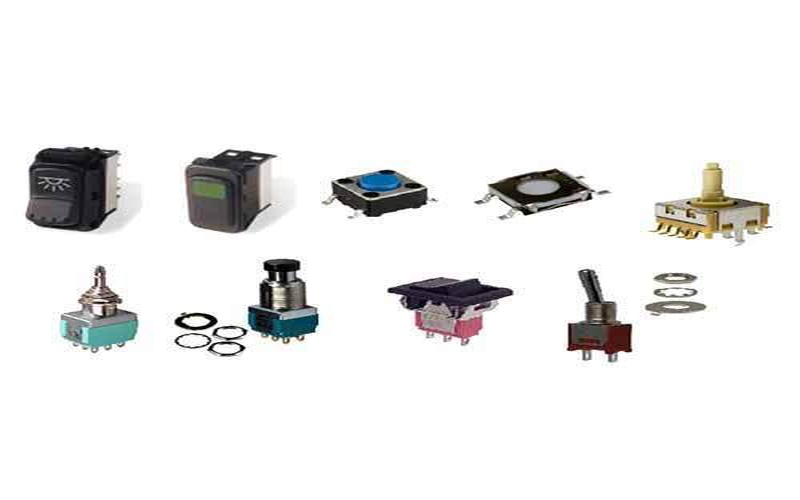Switches: (158, 250, 333, 379), (544, 254, 702, 378), (149, 125, 289, 249), (12, 109, 127, 244), (642, 139, 780, 248), (366, 263, 519, 356), (470, 139, 623, 230), (301, 132, 439, 224), (48, 253, 152, 350)
